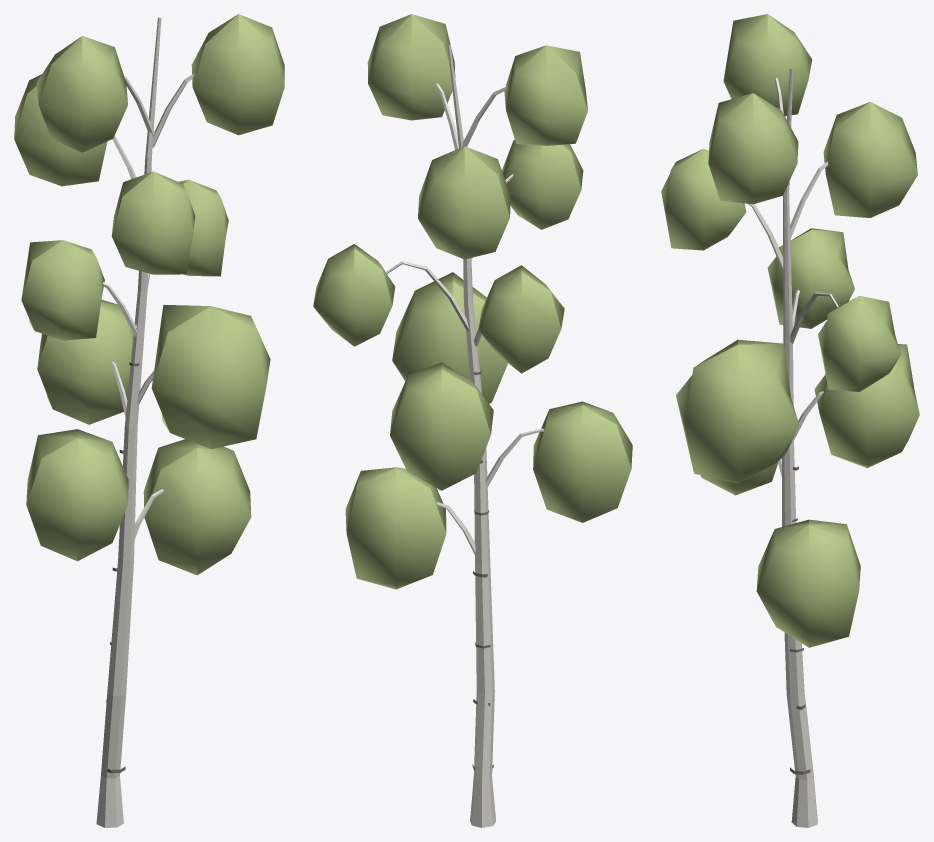
Rendered from birch-mature.glb.
3 views of the same model, side by side, from view 1: azimuth 30°, elevation 25°; view 2: azimuth 150°, elevation 25°; view 3: azimuth 270°, elevation 25° (orthographic). The views are drawn at different scales.
Visible parts, largest first — view 1: birch-mature; view 2: birch-mature; view 3: birch-mature.
Part boxes in pixels (left/top/right/bottom): birch-mature: left=14, top=14, right=284, bottom=827; birch-mature: left=313, top=14, right=632, bottom=827; birch-mature: left=661, top=14, right=919, bottom=827.
Size of the model in its own units: 5.15 by 14.95 by 4.46.
